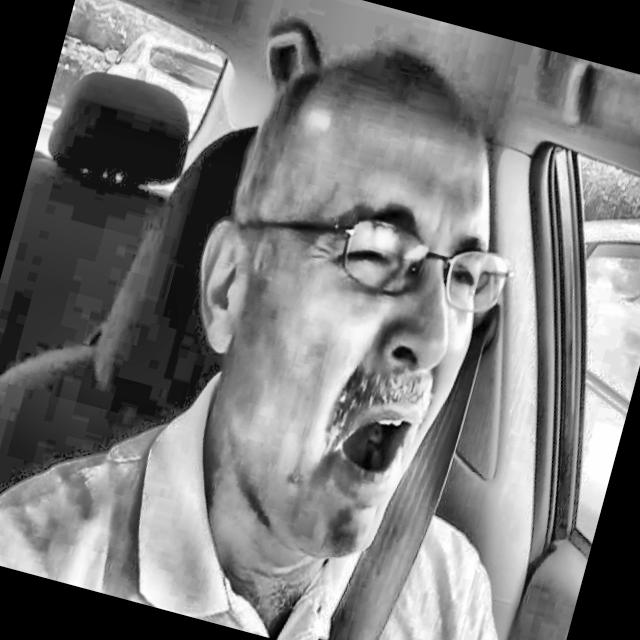closed_eyes: (319, 227, 407, 290), (430, 254, 506, 311)
open_mouth: (316, 379, 441, 521)
